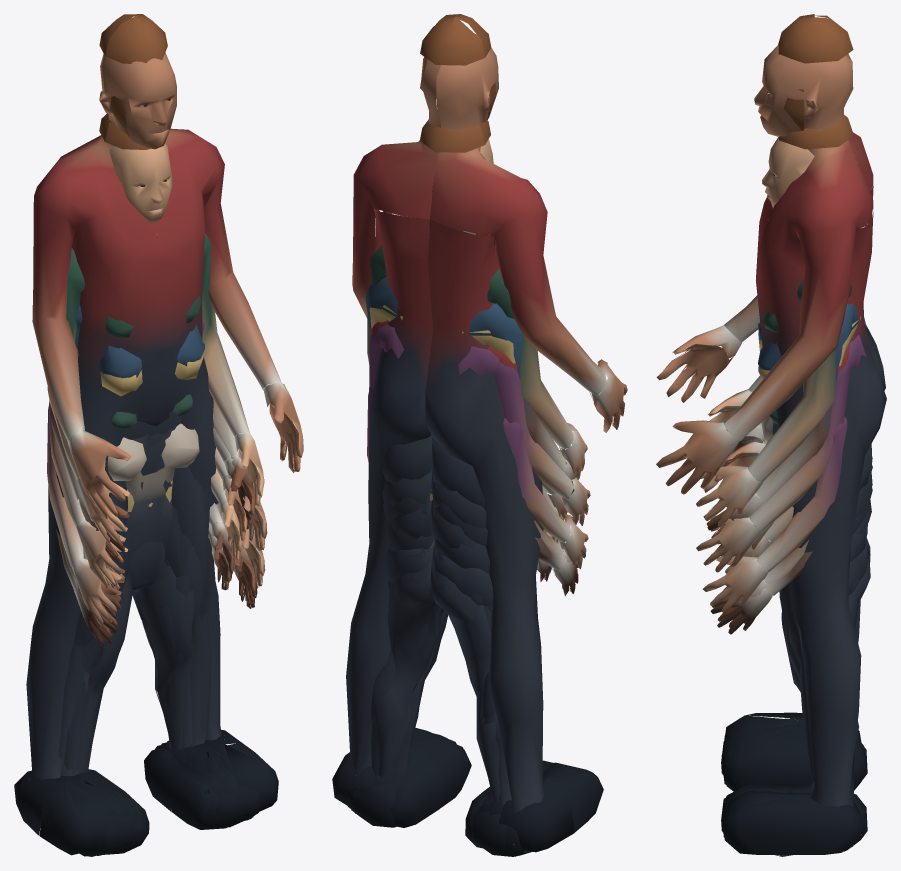
Rendered from crowd.d80831818597.glb.
3 views of the same model, side by side, from view 1: azimuth 30°, elevation 25°; view 2: azimuth 150°, elevation 25°; view 3: azimuth 270°, elevation 25° (orthographic).
Parts seen in each view (by area): view 1: crowd-6, crowd-3, crowd-5, crowd-11, crowd-7, crowd-8, crowd-0, crowd-10, crowd-4, crowd-2, crowd-9, crowd-1; view 2: crowd-6, crowd-1, crowd-3, crowd-4, crowd-7, crowd-11, crowd-2, crowd-10, crowd-8, crowd-5, crowd-9, crowd-0; view 3: crowd-6, crowd-3, crowd-4, crowd-10, crowd-7, crowd-11, crowd-8, crowd-1, crowd-2, crowd-5, crowd-9, crowd-0.
Boxes of the visible parts, x1,y1,x2,y2 form: crowd-6: [14, 14, 303, 855]; crowd-3: [47, 113, 265, 854]; crowd-5: [76, 423, 248, 854]; crowd-11: [85, 522, 230, 853]; crowd-7: [50, 209, 261, 851]; crowd-8: [66, 353, 251, 824]; crowd-0: [71, 447, 259, 855]; crowd-10: [47, 406, 265, 856]; crowd-4: [49, 320, 267, 856]; crowd-2: [56, 480, 257, 854]; crowd-9: [79, 394, 248, 849]; crowd-1: [60, 503, 255, 749]; crowd-6: [332, 14, 627, 852]; crowd-1: [351, 466, 577, 856]; crowd-3: [367, 111, 587, 815]; crowd-4: [347, 230, 590, 855]; crowd-7: [365, 179, 576, 807]; crowd-11: [390, 559, 551, 848]; crowd-2: [390, 489, 578, 856]; crowd-10: [350, 387, 588, 806]; crowd-8: [369, 194, 573, 811]; crowd-5: [385, 532, 555, 799]; crowd-9: [385, 486, 565, 804]; crowd-0: [370, 235, 567, 802]; crowd-6: [656, 14, 886, 856]; crowd-3: [696, 115, 872, 832]; crowd-4: [696, 317, 871, 851]; crowd-10: [702, 417, 866, 836]; crowd-7: [706, 217, 872, 836]; crowd-11: [724, 538, 862, 791]; crowd-8: [707, 316, 872, 795]; crowd-1: [711, 525, 870, 850]; crowd-2: [710, 524, 870, 850]; crowd-5: [722, 415, 868, 795]; crowd-9: [720, 410, 866, 761]; crowd-0: [714, 341, 868, 833].
Size of the model in its own units: 0.6326 by 2.23 by 0.5869.
